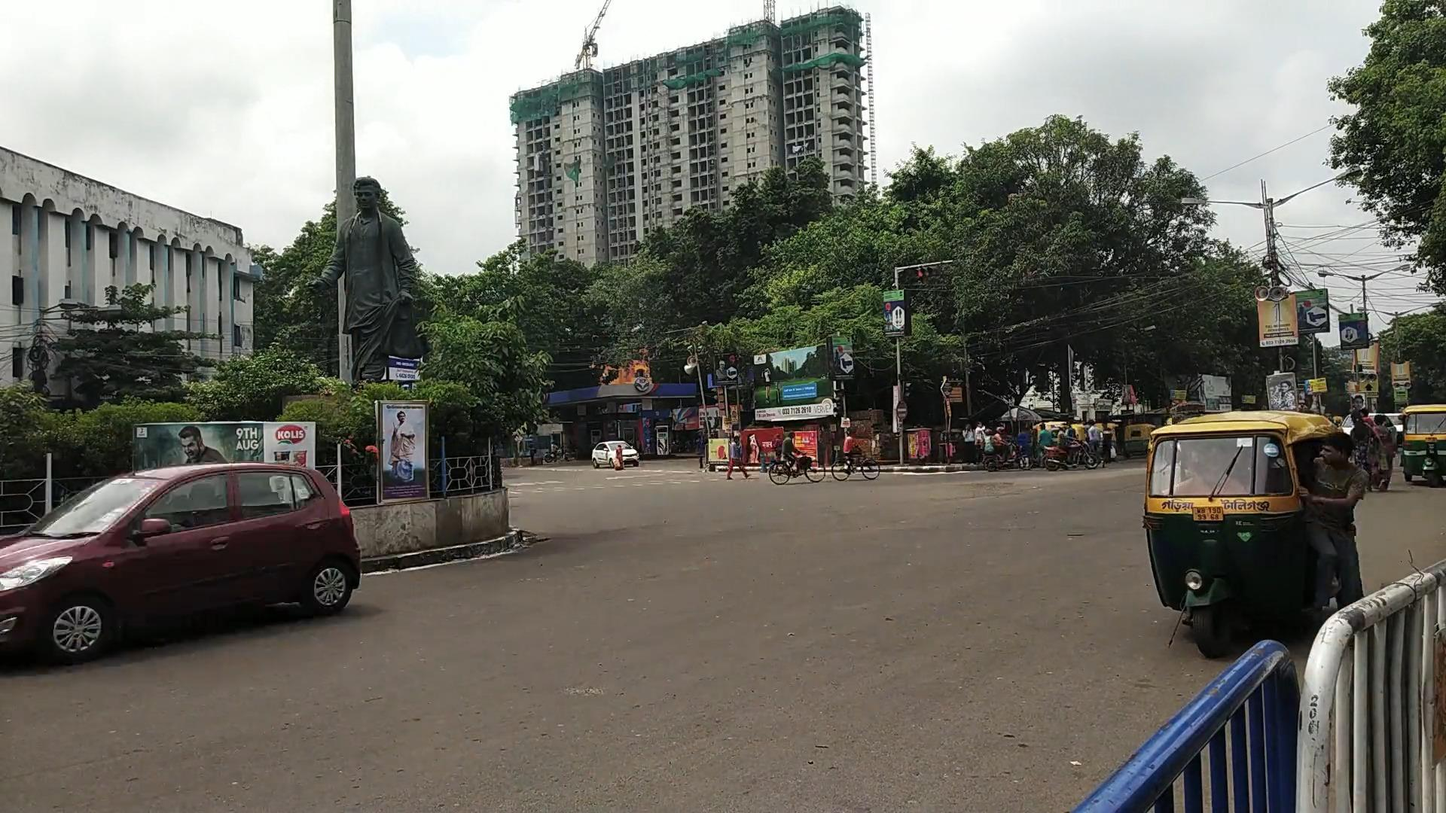bicyclist: (768, 431, 826, 485), (830, 427, 880, 482)
